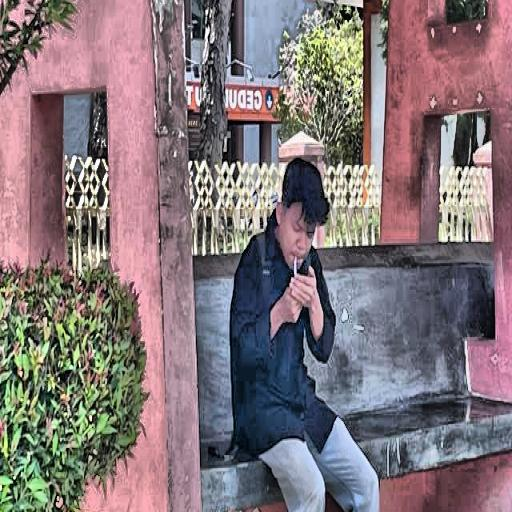Merokok: (294, 259, 298, 274)
Rokok: (271, 273, 323, 338), (275, 202, 316, 267)
